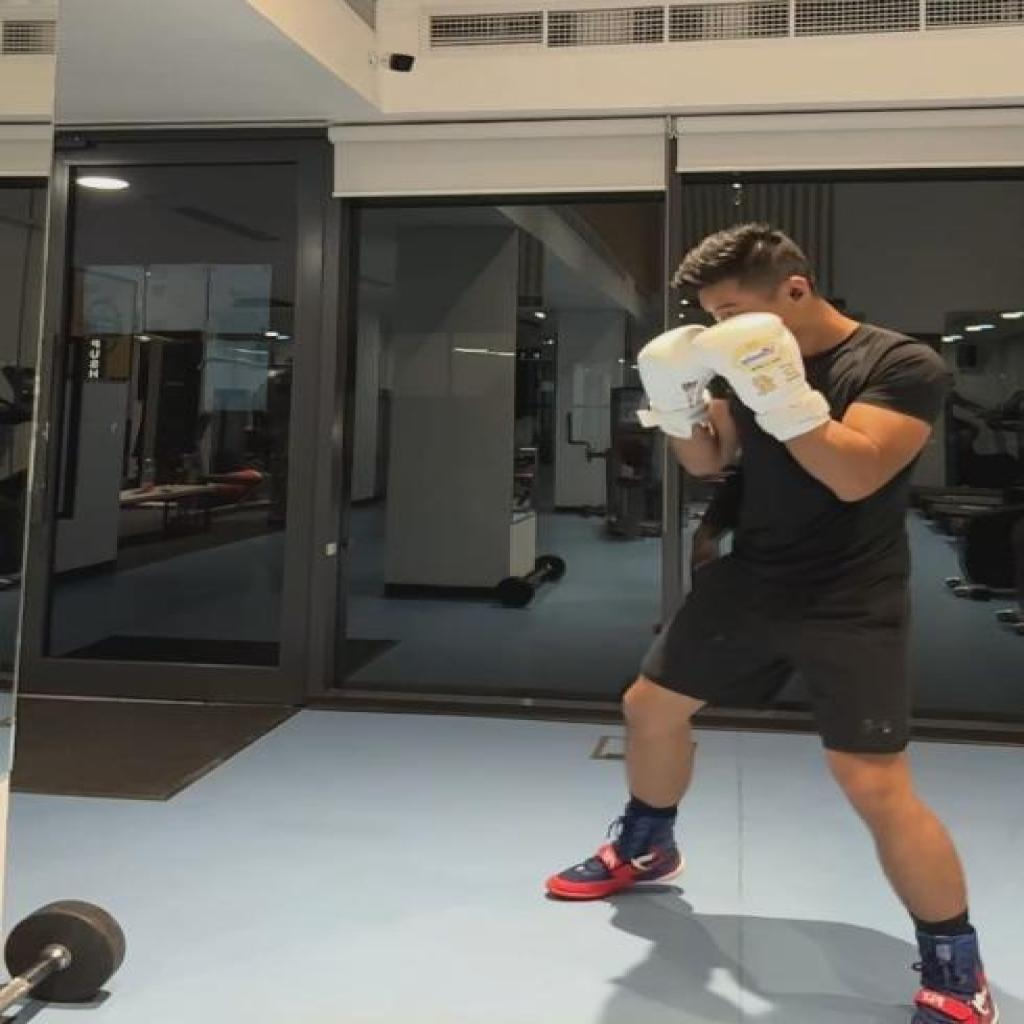no punch: (539, 229, 1001, 1024)
